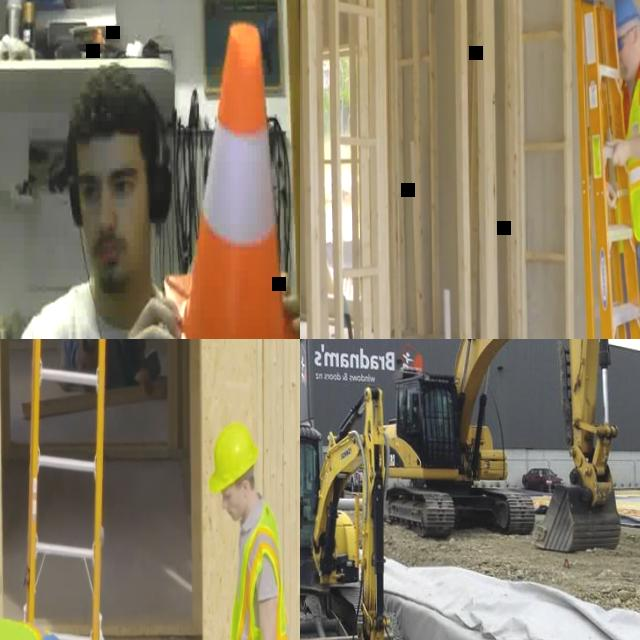Hardhat: (208, 421, 258, 494), (613, 0, 640, 27)
NO-Hardhat: (66, 59, 159, 145)
NO-Mask: (80, 226, 145, 294), (619, 48, 634, 80), (226, 498, 240, 520)
NO-Safety Vest: (45, 293, 204, 339)
Person: (0, 17, 300, 339), (218, 419, 292, 640), (605, 0, 640, 339), (58, 339, 152, 395)
Safety Cone: (162, 21, 300, 339)
Safety Vest: (225, 498, 292, 640), (625, 59, 640, 241)
vehicle: (378, 339, 619, 552), (300, 386, 419, 640), (522, 466, 564, 491)
